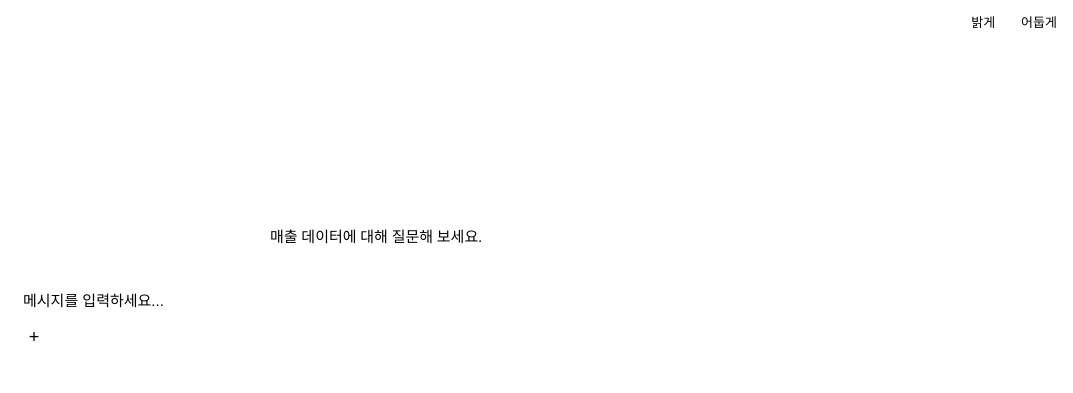
Chat - 이메일 수신자 프리셋 › 프리셋 주소라도 서버가 403을 주면 에러를 표시한다
Step 1. Type "질문" into the field with placeholder "메시지를 입력하세요..." → point(379, 300), box [19,288,739,313]
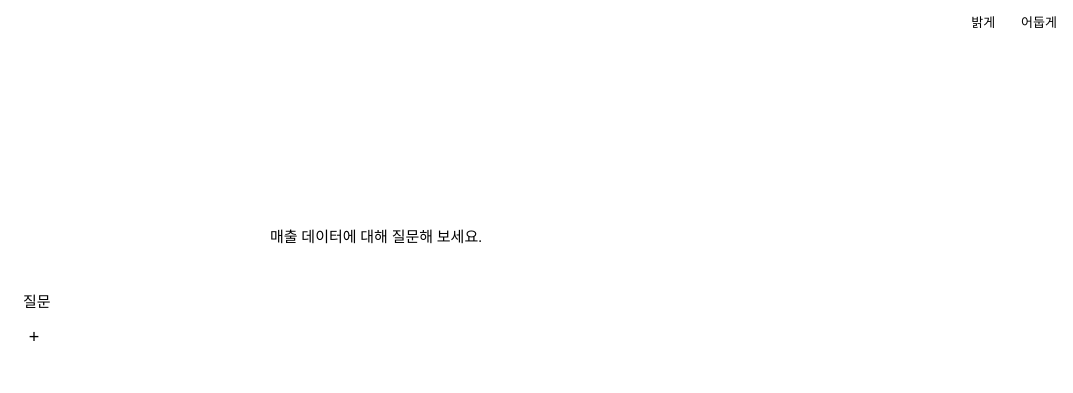
Step 2. Press Enter in the field with placeholder "메시지를 입력하세요...", box [19,288,739,313]
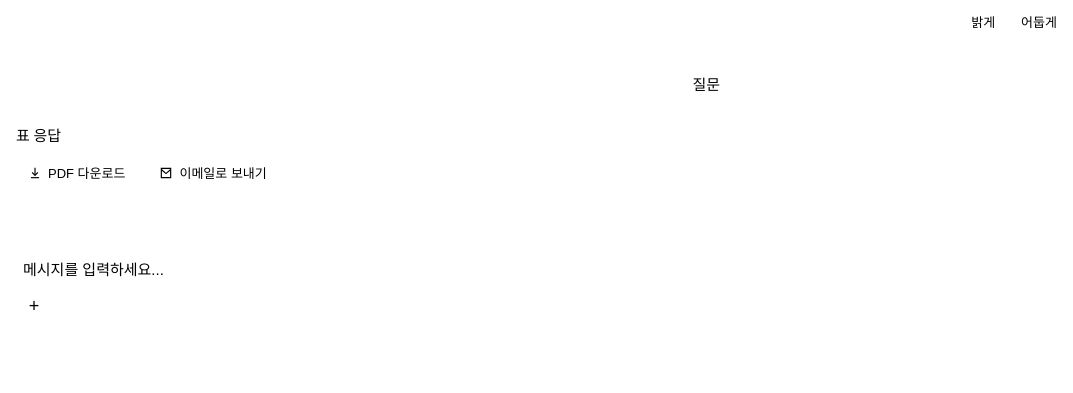
Step 3. Click the button "이메일로 보내기" → point(213, 172), box [148,158,279,187]
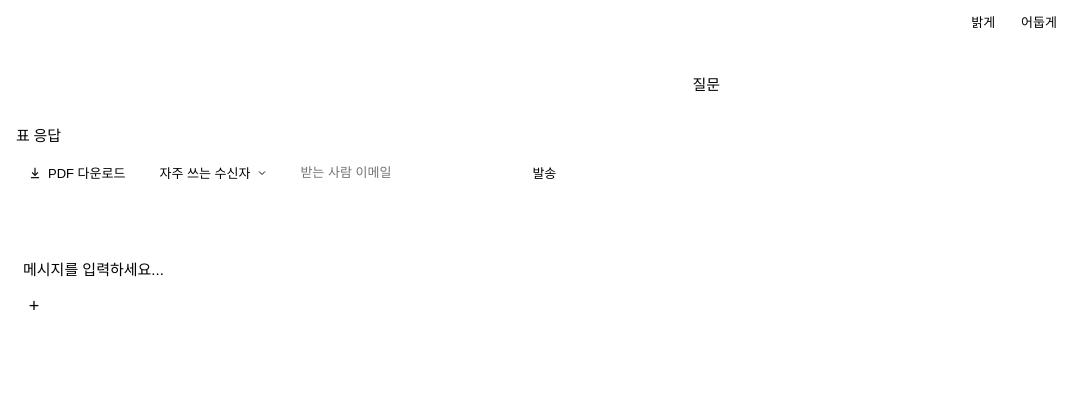
Step 4. Click the button "자주 쓰는 수신자" → point(214, 172), box [148,158,280,187]
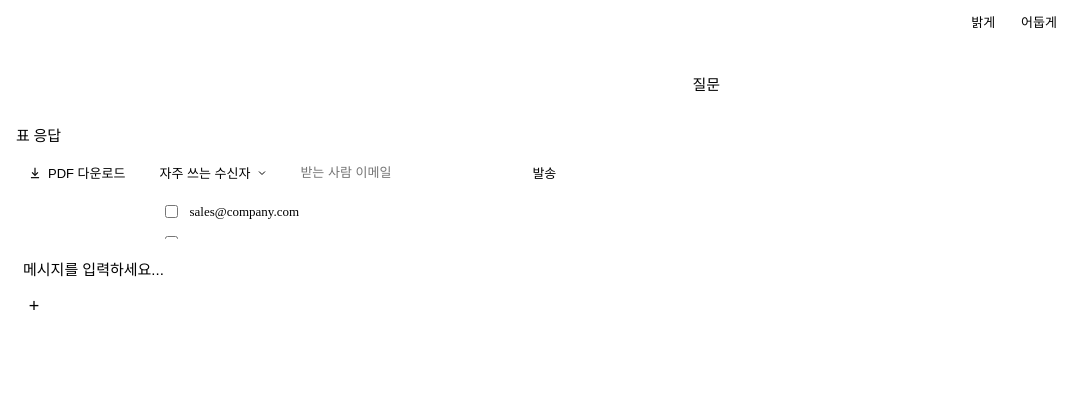
Step 5. Click the checkbox labelled "sales@company.com" → point(172, 212), box [166,205,178,218]
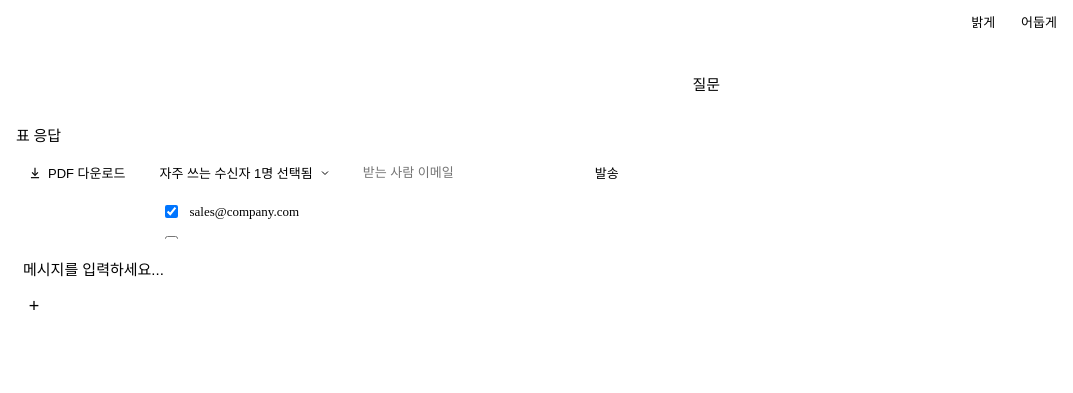
Step 6. Click the button "발송" → point(607, 172), box [583,158,631,187]
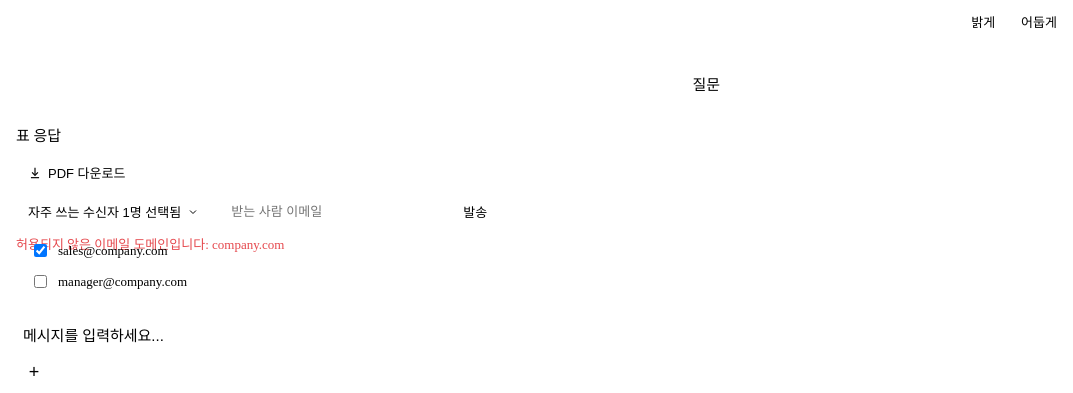
Expected: the field with placeholder "받는 사람 이메일" is shown, [219,199,443,224]
Expected: the text "허용되지 않은 이메일 도메인입니다: company.com" is shown, [16,234,284,253]
